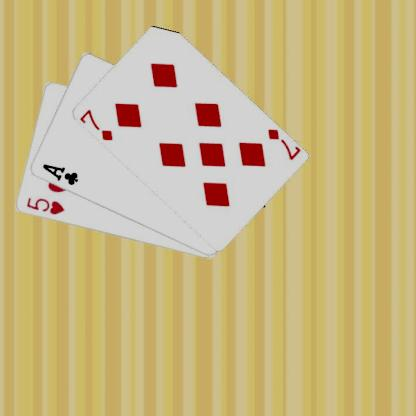5H: (23, 194, 66, 216)
7D: (78, 106, 114, 142), (264, 126, 300, 162)
AC: (40, 160, 79, 186)
